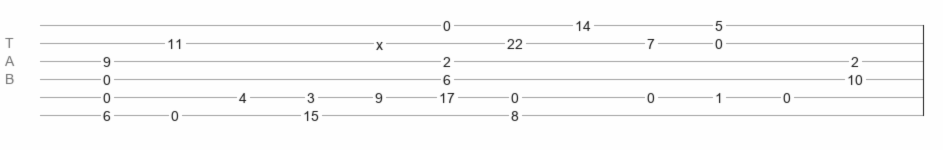0: (103, 90, 111, 100), (103, 72, 111, 82), (171, 108, 179, 118), (443, 18, 451, 28), (511, 90, 519, 100), (647, 90, 655, 100), (715, 36, 723, 46), (783, 90, 791, 100)
1: (715, 90, 723, 100)
10: (847, 72, 863, 82)
11: (167, 36, 183, 46)
14: (575, 18, 591, 28)
15: (303, 108, 319, 118)
17: (439, 90, 455, 100)
2: (443, 54, 451, 64), (851, 54, 859, 64)
22: (507, 36, 523, 46)
3: (307, 90, 315, 100)
4: (239, 90, 247, 100)
5: (715, 18, 723, 28)
6: (103, 108, 111, 118), (443, 72, 451, 82)
7: (647, 36, 655, 46)
8: (511, 108, 519, 118)
9: (103, 54, 111, 64), (375, 90, 383, 100)
x: (376, 37, 383, 45)
